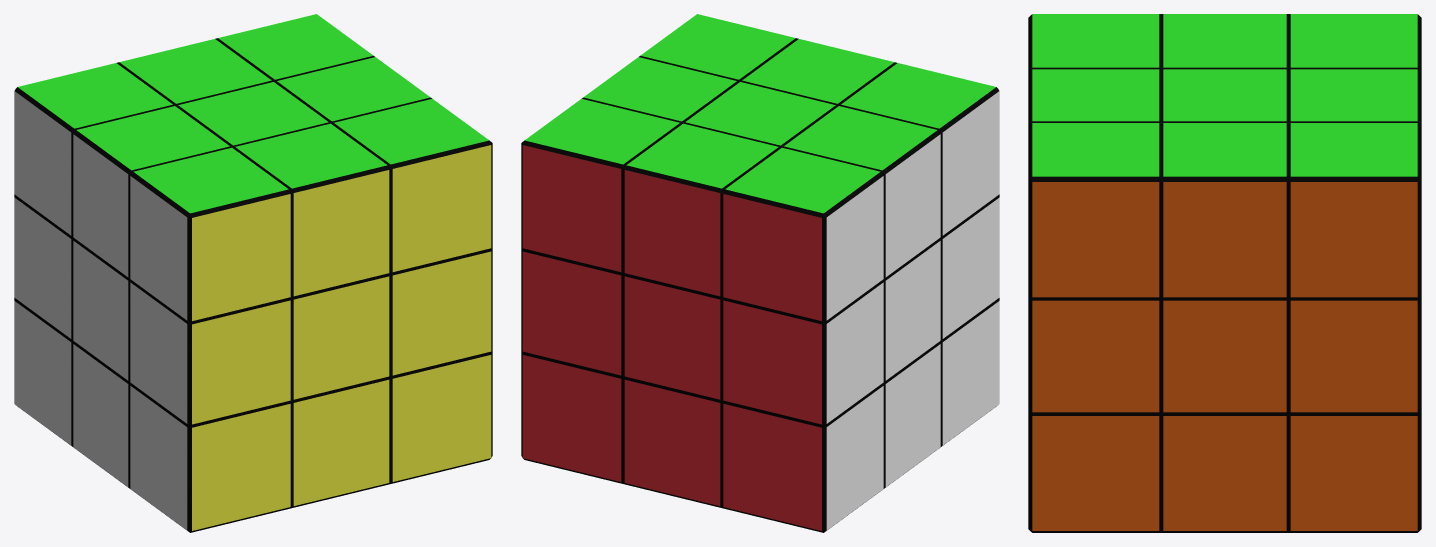
The model's file is RubikCube.fbx.
3 views of the same model, side by side, from view 1: azimuth 30°, elevation 25°; view 2: azimuth 150°, elevation 25°; view 3: azimuth 270°, elevation 25° (orthographic). The views are drawn at different scales.
Visible parts, largest first — view 1: Cube; view 2: Cube; view 3: Cube.
Boxes of the visible parts, x1=… form: Cube: x1=14, y1=14, x2=492, y2=532; Cube: x1=521, y1=14, x2=999, y2=532; Cube: x1=1028, y1=14, x2=1421, y2=532.
Size of the model in its own units: 200 by 200 by 200.
